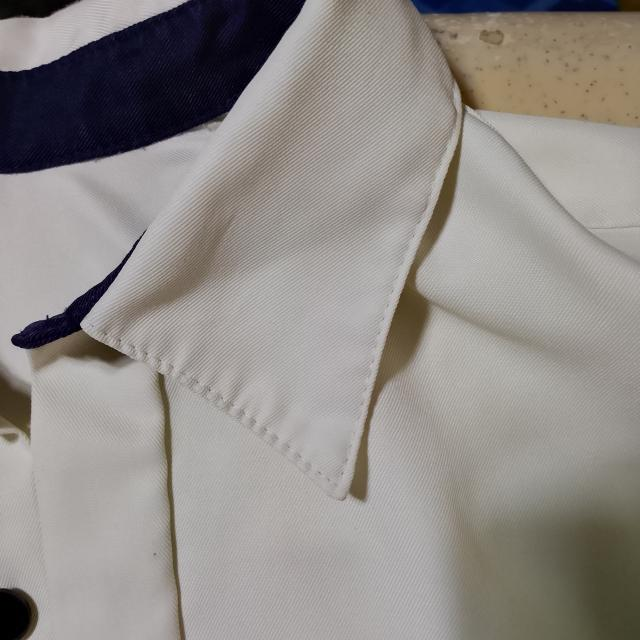education_male_uniform: (0, 111, 633, 634), (3, 0, 640, 365)
